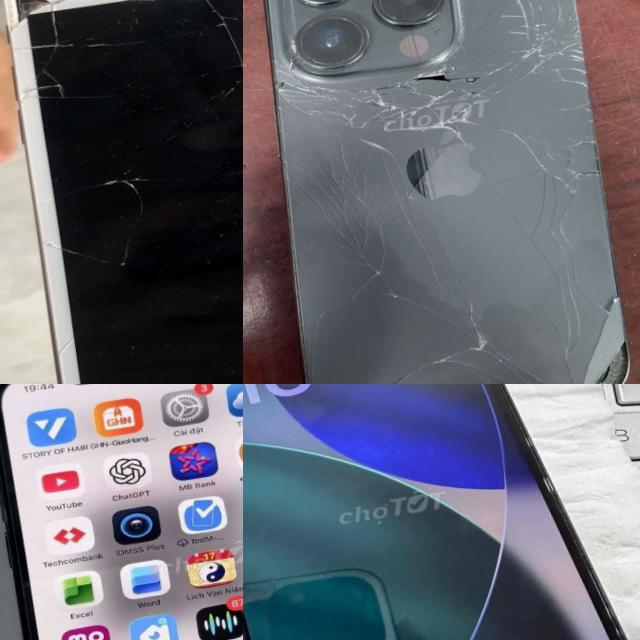physical_damage: (402, 92, 552, 193), (263, 52, 396, 140), (498, 0, 597, 101), (373, 261, 474, 357), (277, 228, 382, 318), (359, 202, 479, 280), (283, 167, 409, 238), (394, 42, 510, 118), (279, 122, 403, 182), (543, 91, 616, 180), (522, 171, 592, 263), (460, 323, 565, 384), (524, 252, 618, 316), (291, 304, 360, 384), (358, 347, 483, 384), (554, 304, 636, 356), (557, 347, 640, 384), (16, 30, 114, 61), (3, 0, 134, 19), (18, 66, 69, 102), (96, 171, 156, 199), (454, 0, 531, 16), (525, 0, 587, 19), (60, 86, 124, 104), (205, 0, 233, 31), (107, 244, 140, 270), (42, 237, 75, 260), (224, 28, 243, 60), (46, 14, 66, 44), (125, 198, 148, 224), (142, 0, 214, 8), (80, 248, 108, 268), (56, 333, 80, 355), (233, 61, 243, 92), (124, 227, 142, 241), (225, 88, 236, 99)
scratch: (582, 562, 625, 640), (517, 430, 538, 452), (540, 473, 560, 495)
